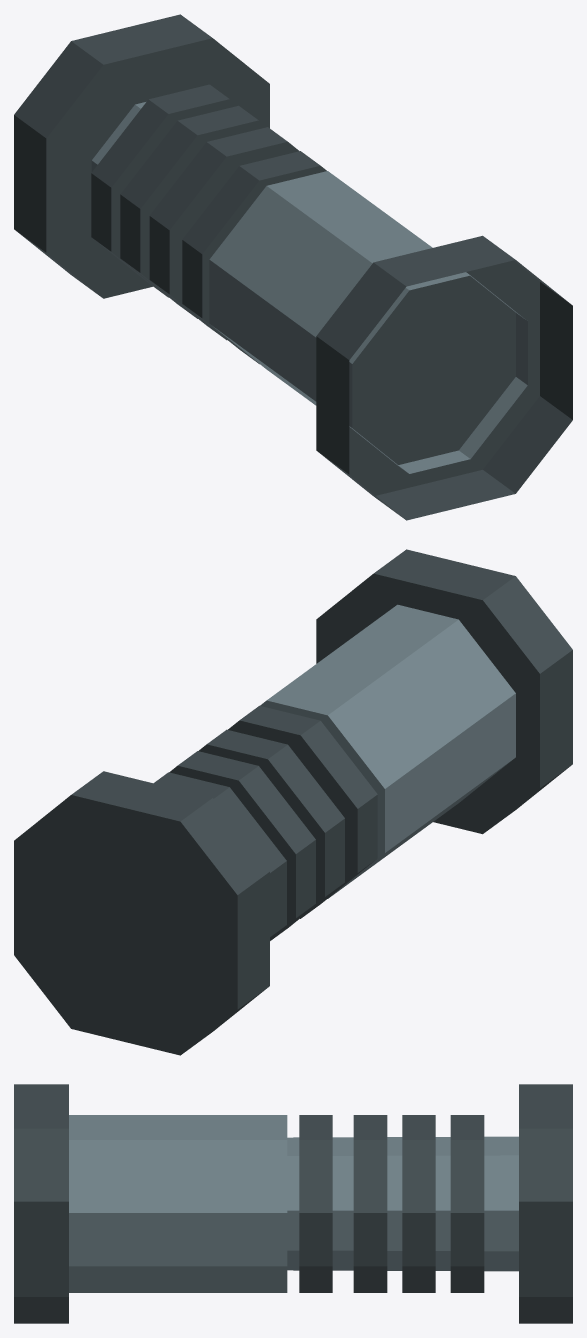
The model's file is Pipes 01.FBX.
The picture shows the model from 3 angles, top to bottom: view 1: azimuth 30°, elevation 25°; view 2: azimuth 150°, elevation 25°; view 3: azimuth 270°, elevation 25°; orthographic projection. The views are drawn at different scales.
Parts seen in each view (by area): view 1: Pipes 01; view 2: Pipes 01; view 3: Pipes 01.
Part boxes in pixels (left/top/right/bottom): Pipes 01: left=14, top=14, right=572, bottom=520; Pipes 01: left=14, top=549, right=572, bottom=1055; Pipes 01: left=14, top=1084, right=572, bottom=1323.
Bounding box in the file's own units: 115 × 115 × 300.
1 material, 1 textured.
